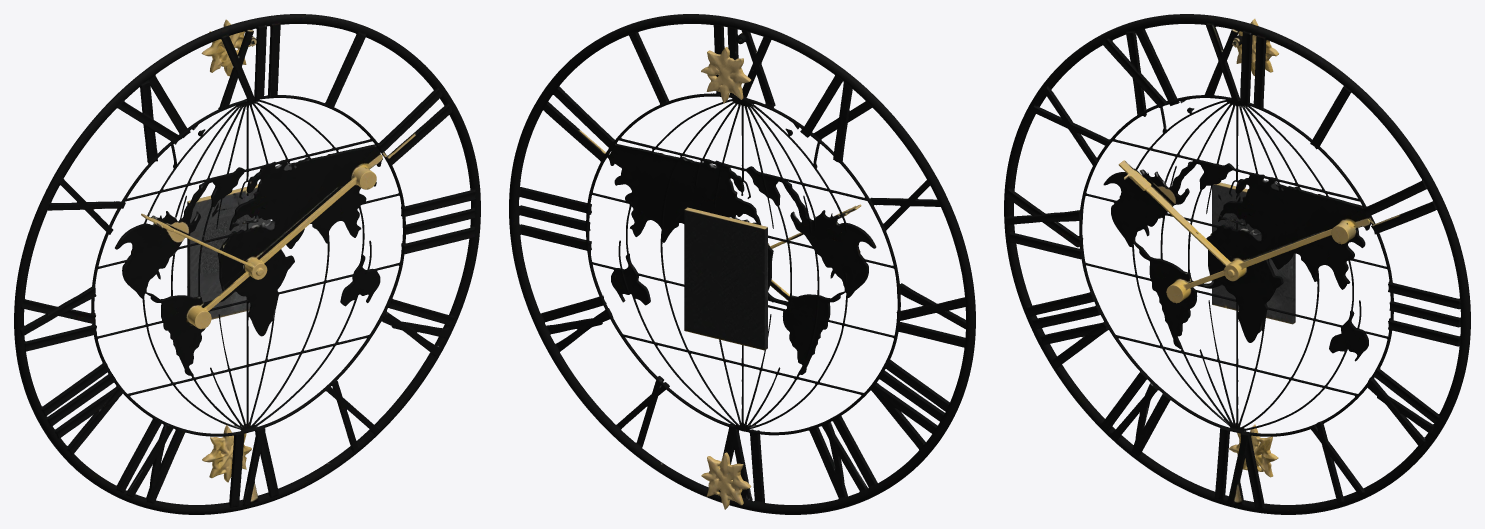
Rendered from World Clock.glb.
The picture shows the model from 3 angles, left to right: view 1: azimuth 30°, elevation 25°; view 2: azimuth 150°, elevation 25°; view 3: azimuth 330°, elevation 25°; orthographic projection.
Size of the model in its own units: 1.9 by 1.9 by 0.2404.
1 material, 1 textured.
